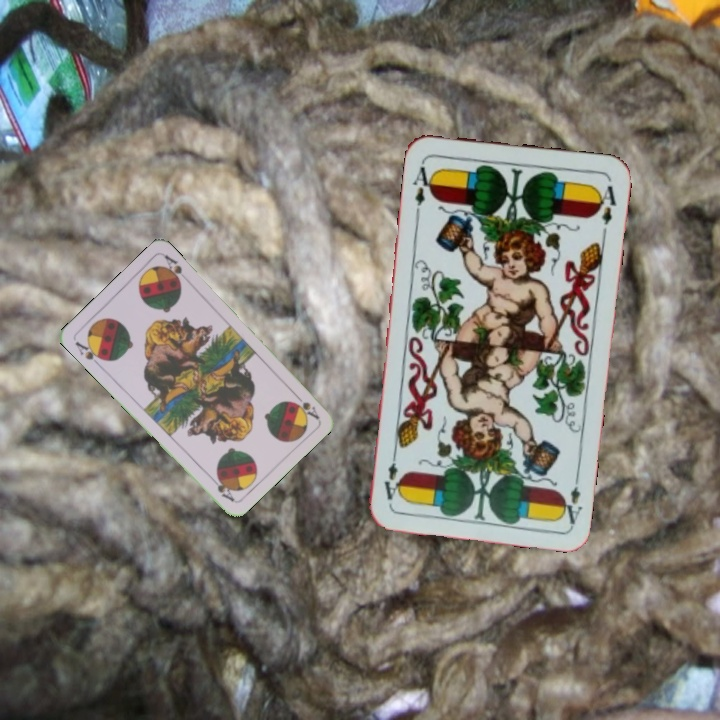EA: (408, 157, 437, 216), (556, 468, 585, 527)
SA: (71, 337, 108, 369), (289, 388, 322, 421)
